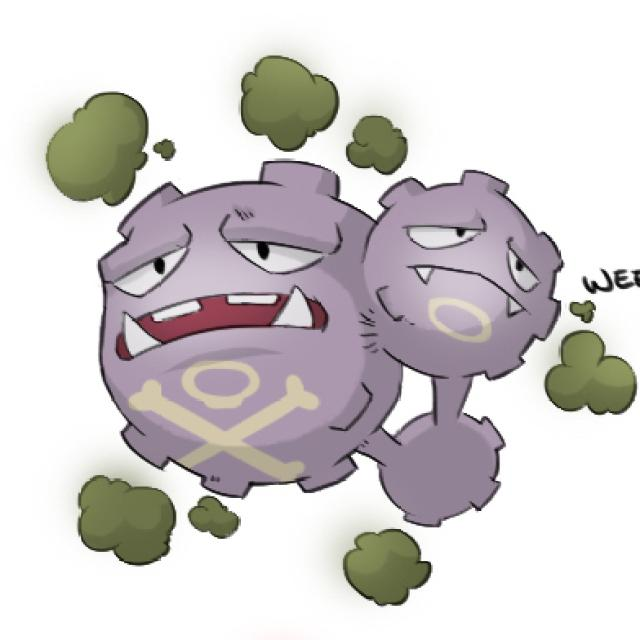Weezing: (100, 159, 562, 530)
